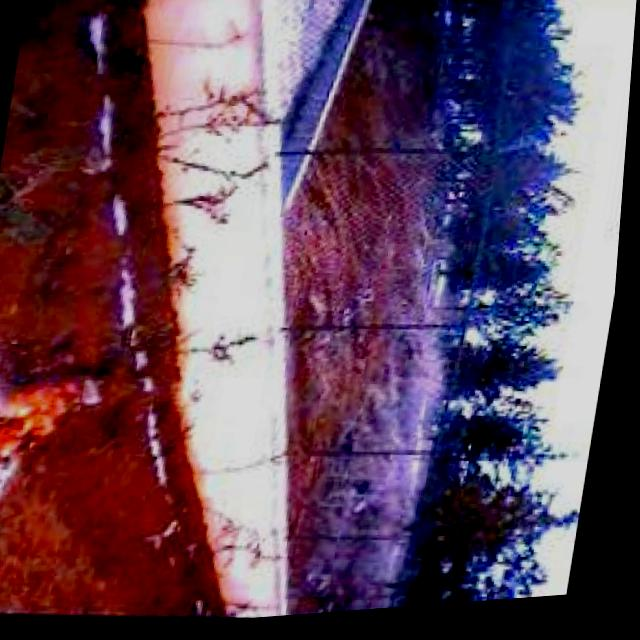helmet: (0, 358, 114, 516)
